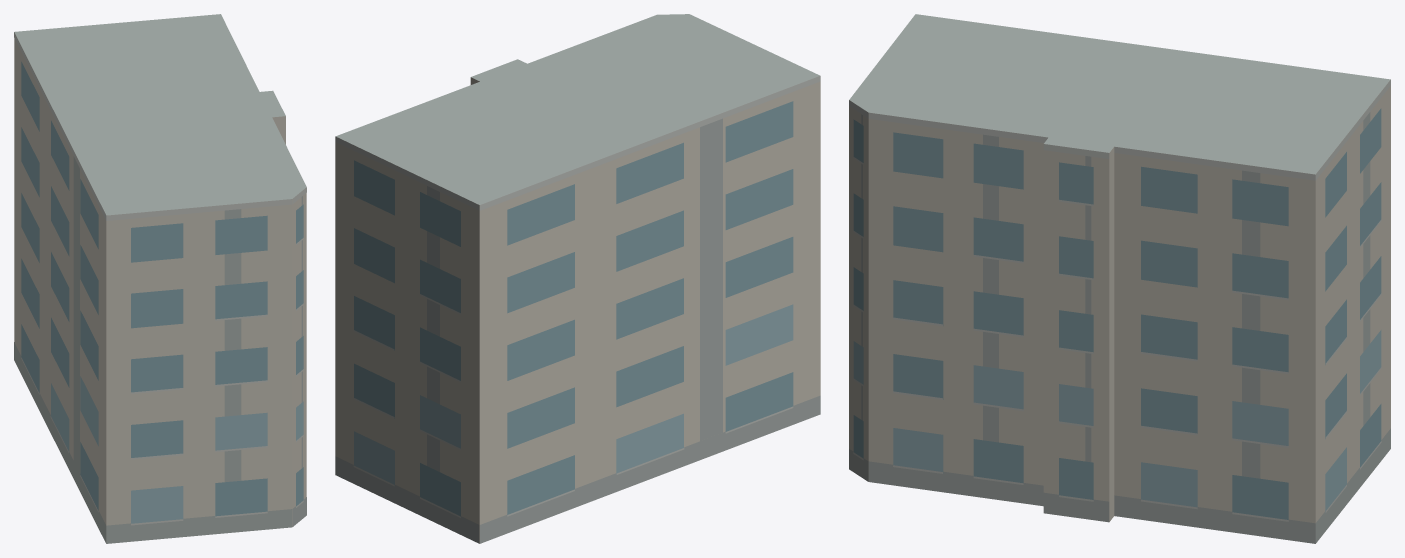
Rendered from survey-upis-32885628.glb.
3 renders of one model, left to right at view 1: azimuth 30°, elevation 25°; view 2: azimuth 150°, elevation 25°; view 3: azimuth 270°, elevation 25°, orthographic. The views are drawn at different scales.
Visible parts, largest first — view 1: survey-upis-32885628.tmp; view 2: survey-upis-32885628.tmp; view 3: survey-upis-32885628.tmp.
Part boxes in pixels (x1,y1,x2,y2): survey-upis-32885628.tmp: (14,14,306,543); survey-upis-32885628.tmp: (335,14,820,543); survey-upis-32885628.tmp: (849,14,1390,543).
Bounding box in the file's own units: 13.48 × 14.45 × 19.22.
